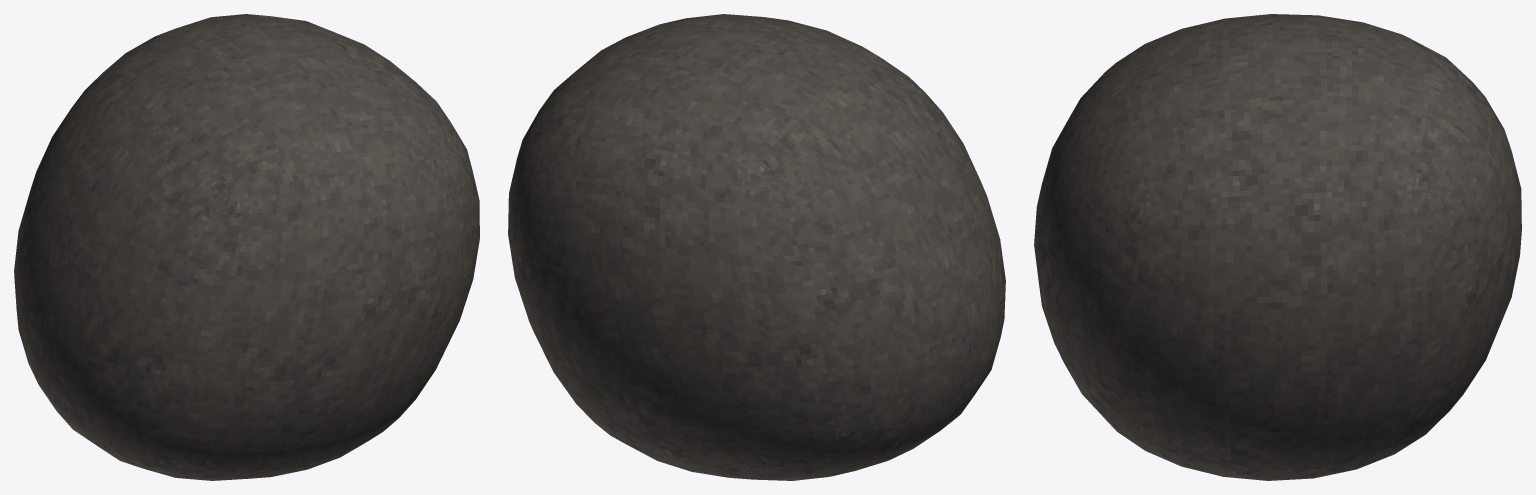
File: rock3.glb
The picture shows the model from 3 angles, left to right: view 1: azimuth 30°, elevation 25°; view 2: azimuth 150°, elevation 25°; view 3: azimuth 270°, elevation 25°; orthographic projection. The views are drawn at different scales.
Parts seen in each view (by area): view 1: Rock3; view 2: Rock3; view 3: Rock3.
Part boxes in pixels (<box>): Rock3: <box>14,14,479,480</box>; Rock3: <box>508,14,1005,480</box>; Rock3: <box>1034,14,1521,480</box>.
Bounding box in the file's own units: 6.8 × 6.32 × 6.57.
1 material, 1 textured.
